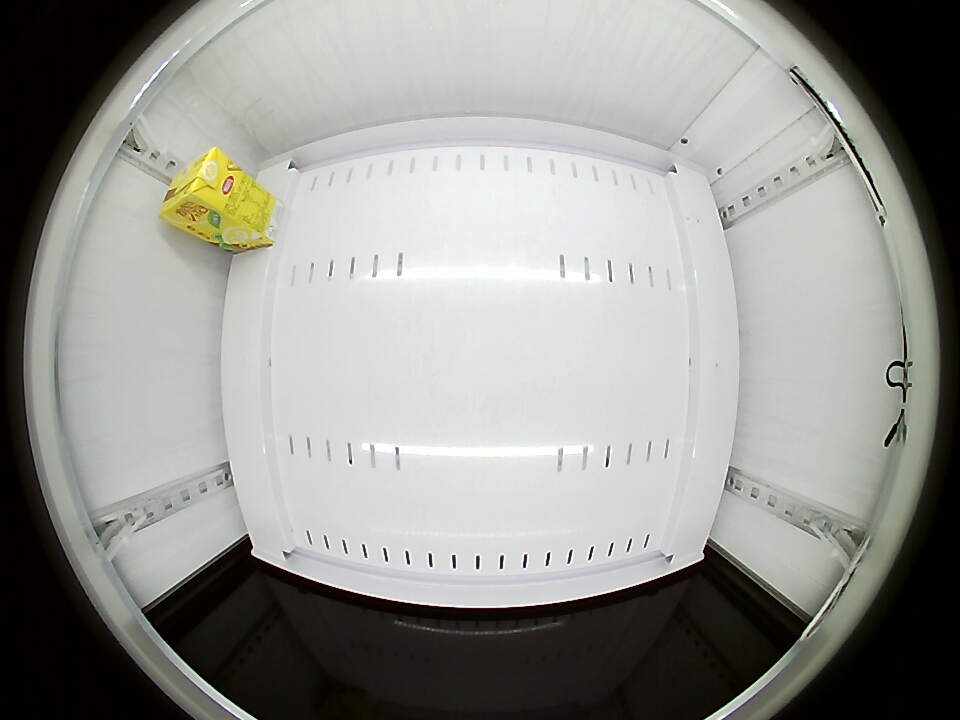weitaningmeng: (160, 146, 241, 231)
